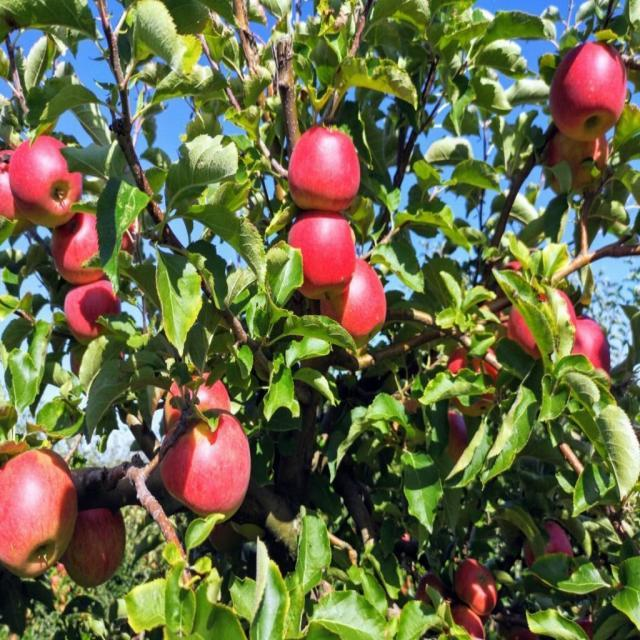Red Apple: (3, 446, 84, 579), (170, 410, 249, 519), (8, 134, 81, 225), (290, 207, 359, 294), (551, 51, 623, 134), (292, 130, 357, 205), (516, 276, 573, 359), (62, 268, 121, 346), (548, 113, 611, 185), (165, 363, 228, 432), (328, 261, 389, 329), (74, 498, 126, 576), (552, 306, 608, 375), (450, 345, 504, 412), (58, 211, 111, 277), (529, 518, 579, 582), (451, 548, 496, 607), (431, 408, 471, 469), (443, 602, 487, 640), (1, 148, 22, 224), (417, 575, 443, 601), (117, 225, 139, 253), (503, 258, 527, 281), (577, 617, 595, 638), (513, 627, 539, 640)
